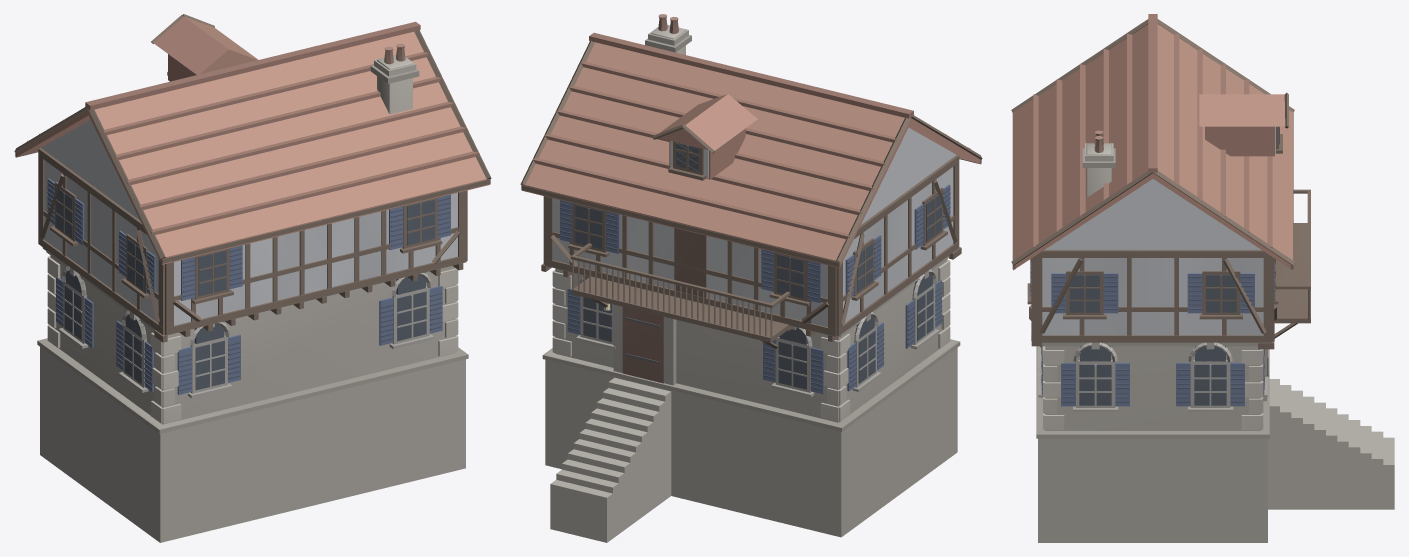
The model's file is house_3_3.gltf.
3 renders of one model, left to right at view 1: azimuth 30°, elevation 25°; view 2: azimuth 150°, elevation 25°; view 3: azimuth 270°, elevation 25°, orthographic. The views are drawn at different scales.
Visible parts, largest first — view 1: Body; view 2: Body; view 3: Body.
Boxes of the visible parts, bbox=[...] form: Body: bbox=[14, 14, 491, 542]; Body: bbox=[520, 14, 982, 542]; Body: bbox=[1011, 14, 1394, 542].
Bounding box in the file's own units: 10.17 × 11.97 × 10.68.
